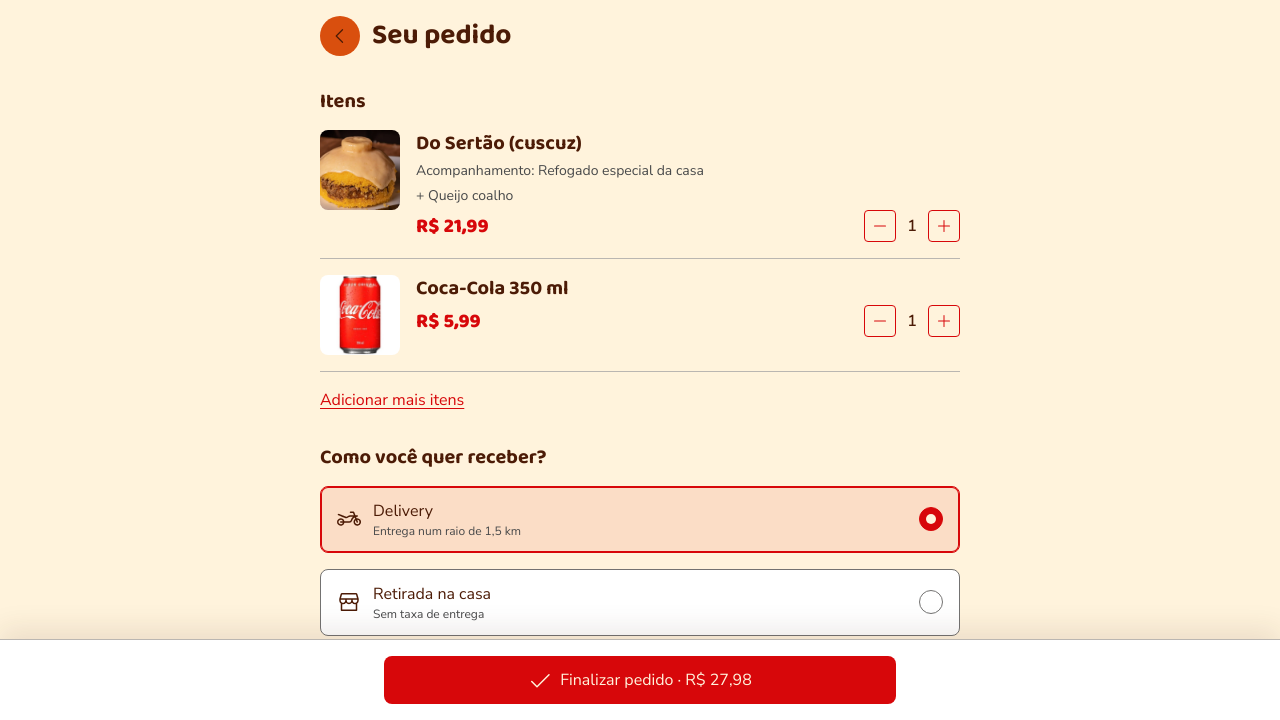
Test: desfazer remoção no carrinho › com dois itens, o aviso aparece junto da lista e Desfazer restaura adicionais e acompanhamento
Step 1. Click the button named "Remover Do Sertão (cuscuz) do pedido" → x=880, y=226, box [864,210,896,242]
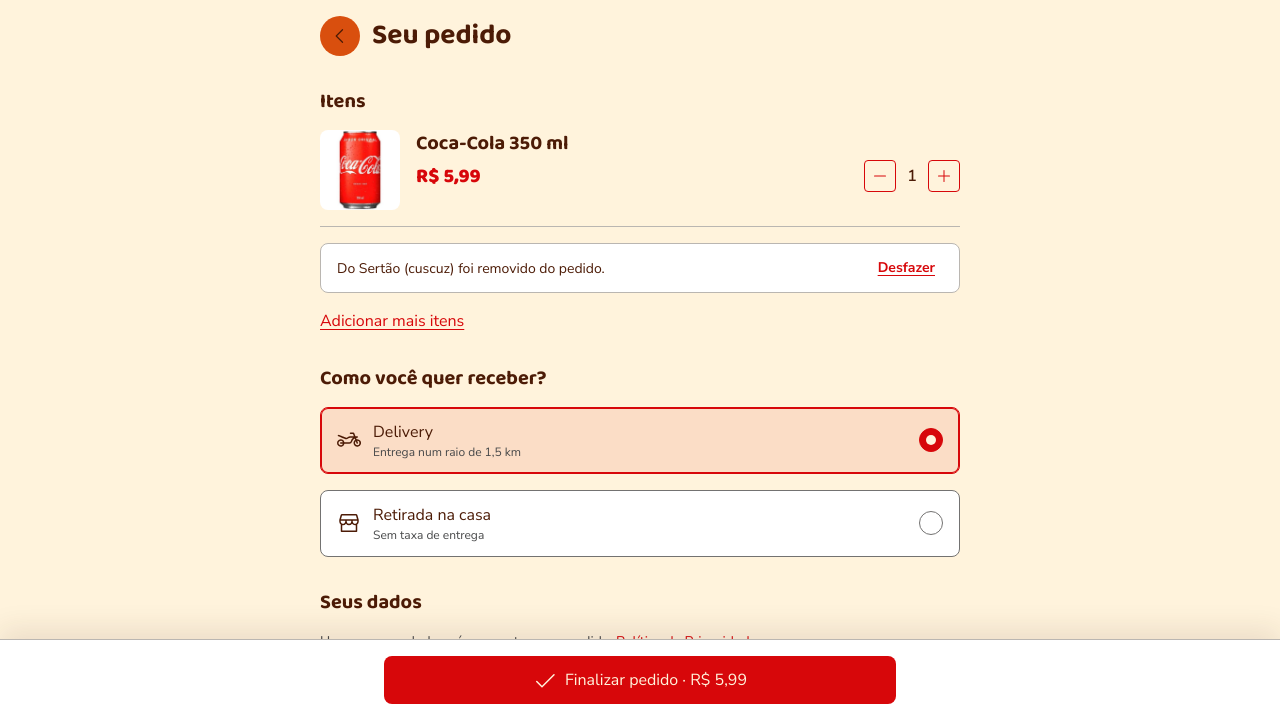
Result: the text "Acompanhamento: Refogado especial da casa" is gone
Step 2. Click the button "Desfazer" → x=906, y=268, box [870,252,943,284]
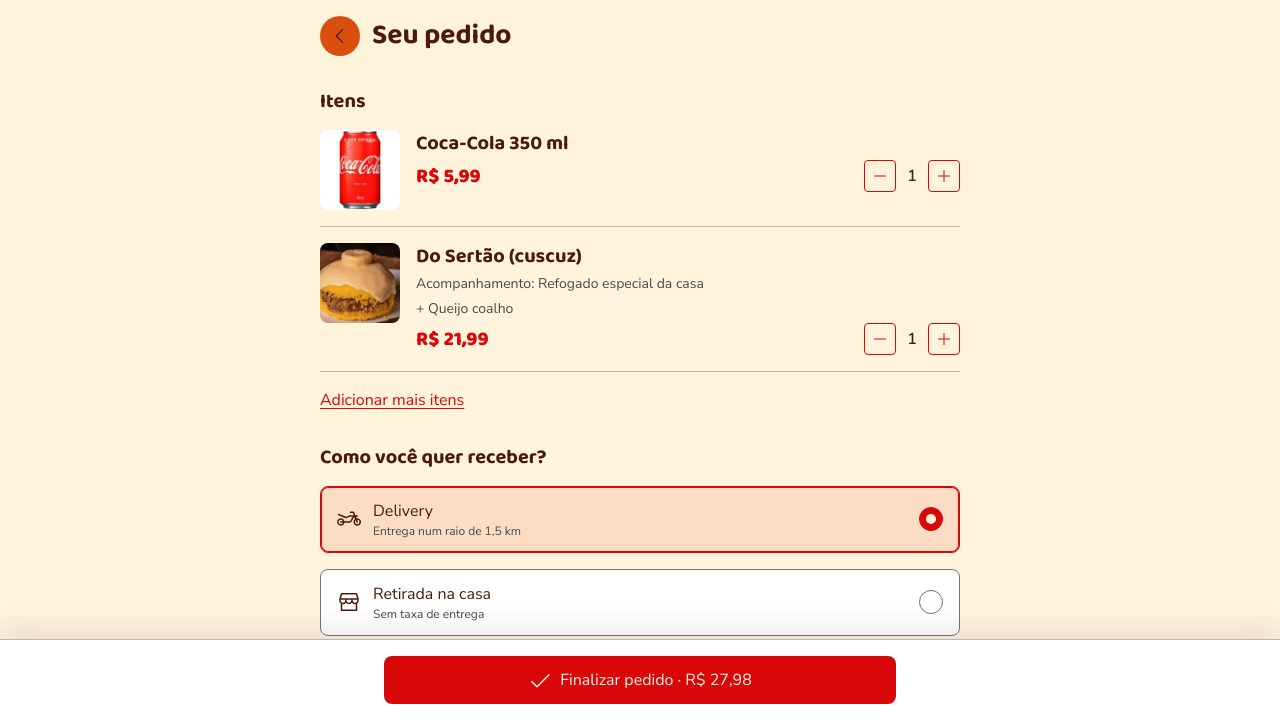
Result: the text "Acompanhamento: Refogado especial da casa" is shown at [416,274,704,293]
Result: the text "+ Queijo coalho" is shown at [416,299,513,318]
